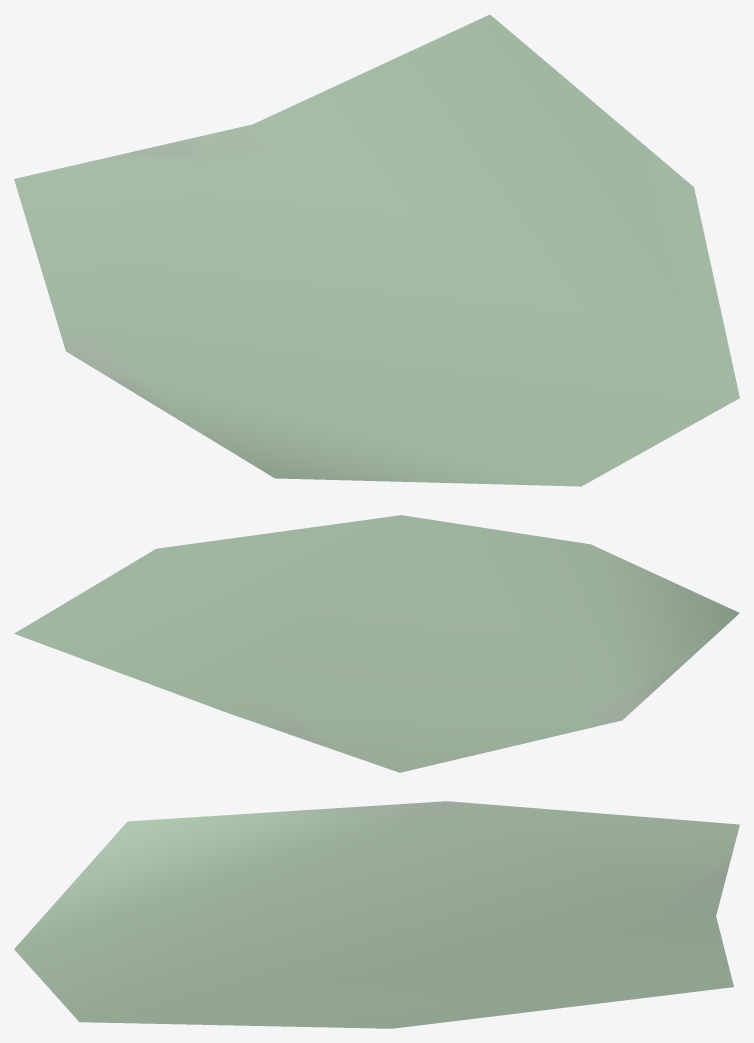
Rendered from TROLLHOLE02_HOLECAP121.fbx.
3 renders of one model, top to bottom at view 1: azimuth 30°, elevation 25°; view 2: azimuth 150°, elevation 25°; view 3: azimuth 270°, elevation 25°, orthographic. The views are drawn at different scales.
Visible parts, largest first — view 1: TROLLHOLE02_HOLECAP121; view 2: TROLLHOLE02_HOLECAP121; view 3: TROLLHOLE02_HOLECAP121.
Boxes of the visible parts, <box> form: TROLLHOLE02_HOLECAP121: <box>14,14,739,486</box>; TROLLHOLE02_HOLECAP121: <box>14,515,739,772</box>; TROLLHOLE02_HOLECAP121: <box>14,801,739,1028</box>.
Size of the model in its own units: 14424 by 2473 by 16721.
1 material, 1 textured.
